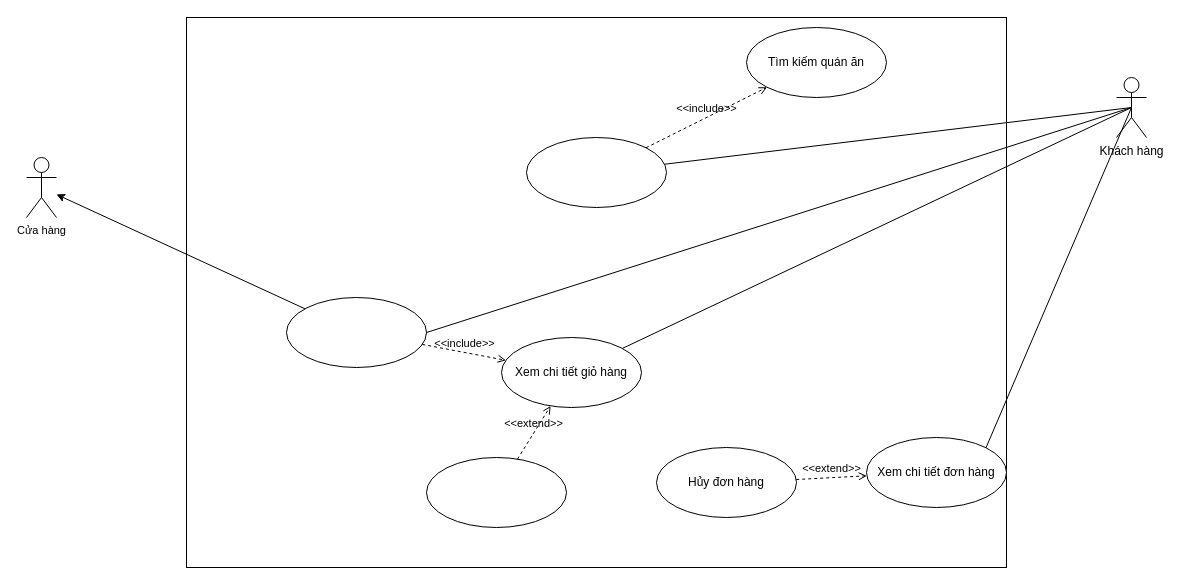
Some shapes in this 1181 by 585 pixel diagram are drawn without their labels. Here are the shapes that lost their labels. From the top down, the box of each, then its label:
(526, 136, 666, 208): Thêm món ăn vào giỏ hàng
(286, 296, 426, 368): Tạo đơn đặt hàng
(426, 456, 566, 528): Chỉnh sửa giỏ hàng
